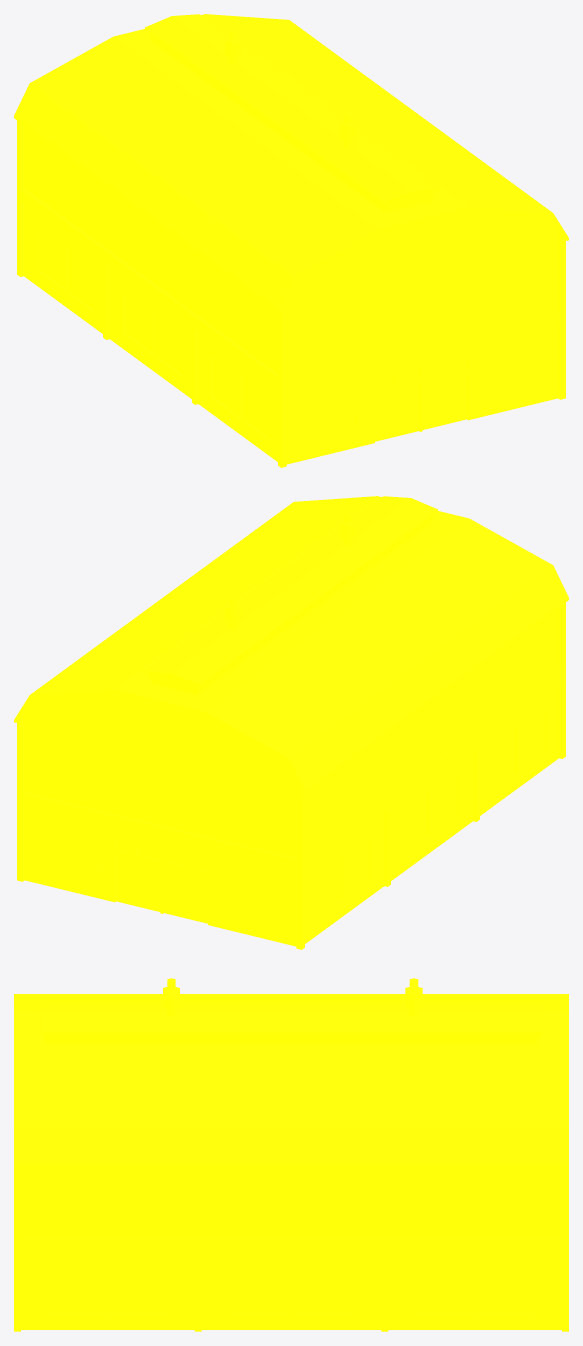
Rendered from industry-factory-hall.glb.
3 renders of one model, top to bottom at view 1: azimuth 30°, elevation 25°; view 2: azimuth 150°, elevation 25°; view 3: azimuth 270°, elevation 25°, orthographic. The views are drawn at different scales.
Visible parts, largest first — view 1: industry-factory-hall; view 2: industry-factory-hall; view 3: industry-factory-hall.
Part boxes in pixels (<box>): industry-factory-hall: <box>14,14,568,467</box>; industry-factory-hall: <box>14,496,568,949</box>; industry-factory-hall: <box>14,978,568,1331</box>.
Bounding box in the file's own units: 12.78 × 11.11 × 20.08.
1 material, 1 textured.
